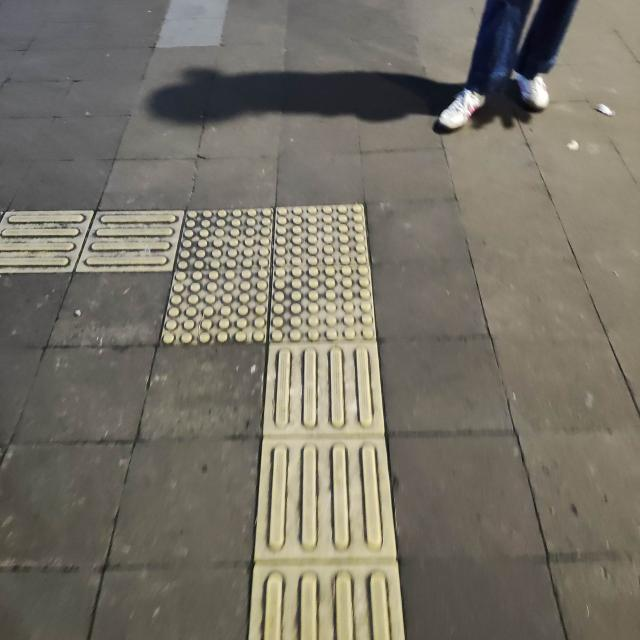kiri: (9, 155, 410, 409)
